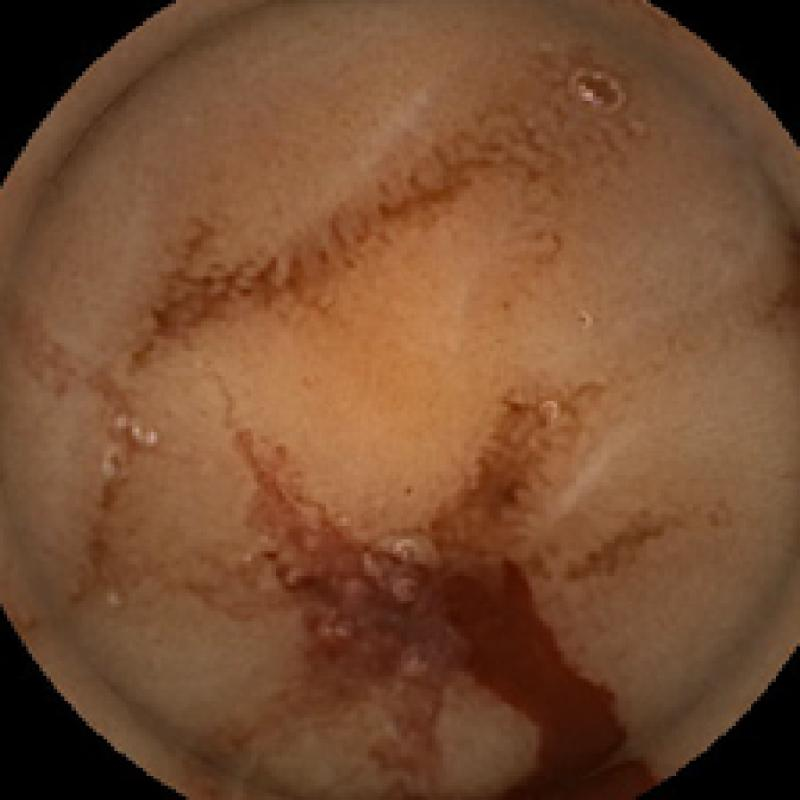bleeding: (447, 550, 657, 800)
